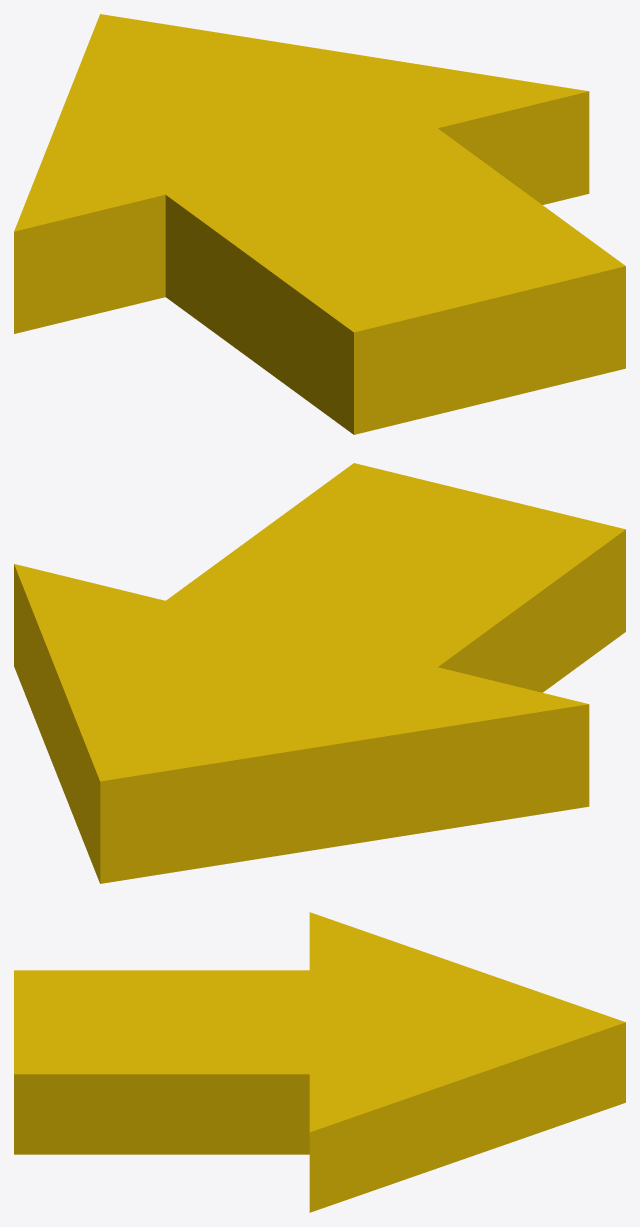
Rendered from Arrow.fbx.
3 renders of one model, top to bottom at view 1: azimuth 30°, elevation 25°; view 2: azimuth 150°, elevation 25°; view 3: azimuth 270°, elevation 25°, orthographic. The views are drawn at different scales.
Visible parts, largest first — view 1: Arrow; view 2: Arrow; view 3: Arrow.
Boxes of the visible parts, <box> form: Arrow: <box>14,14,625,434</box>; Arrow: <box>14,463,625,883</box>; Arrow: <box>14,912,625,1212</box>.
Bounding box in the file's own units: 88.21 × 15.01 × 104.
